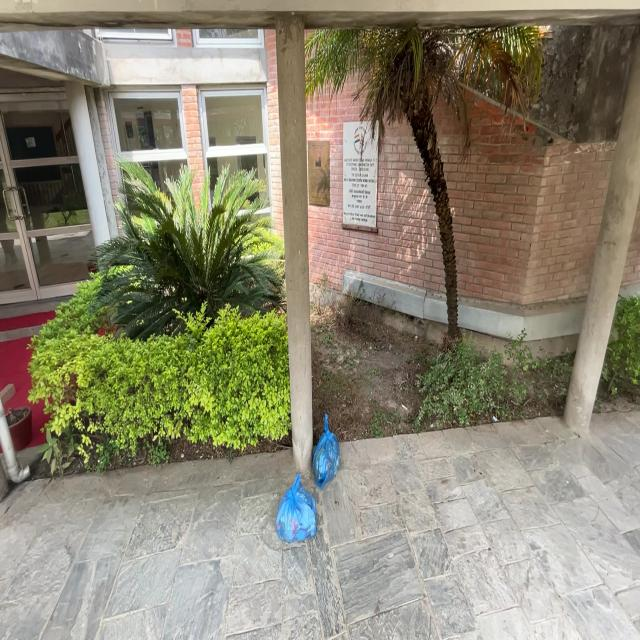garbage: (263, 482, 317, 562), (303, 419, 349, 492)
